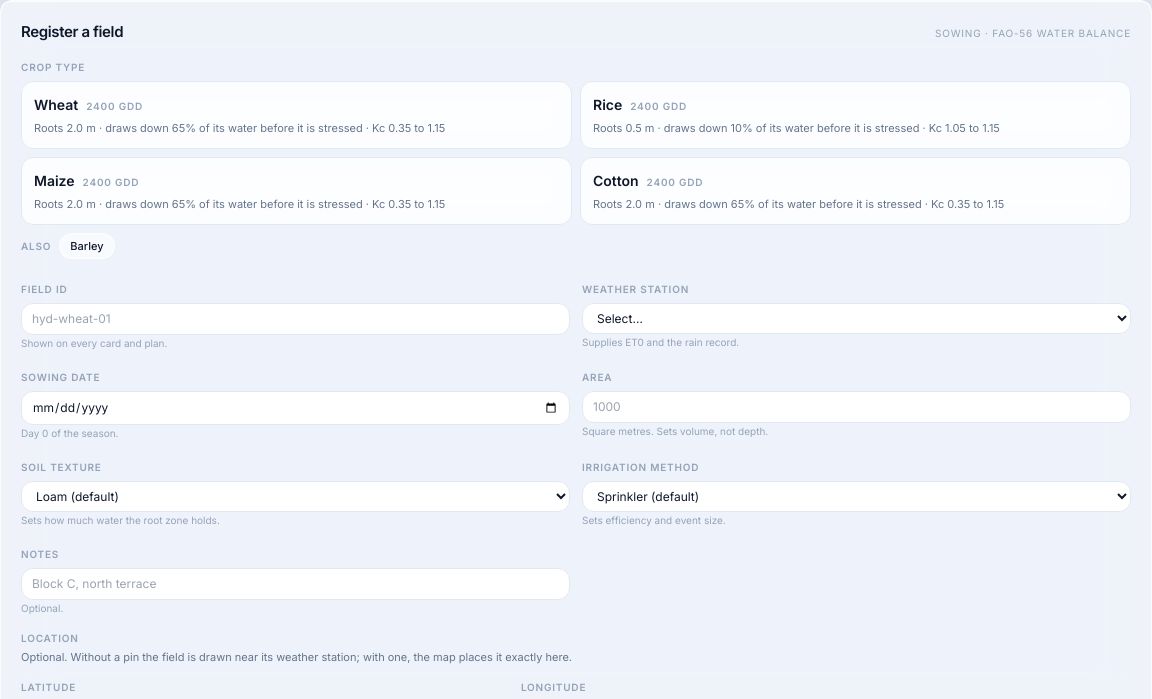
Test case: AddField › refuses a sowing date in the future
Click the button that starts with "Cotton". click: [616, 180]
box: [580,157,1131,225]
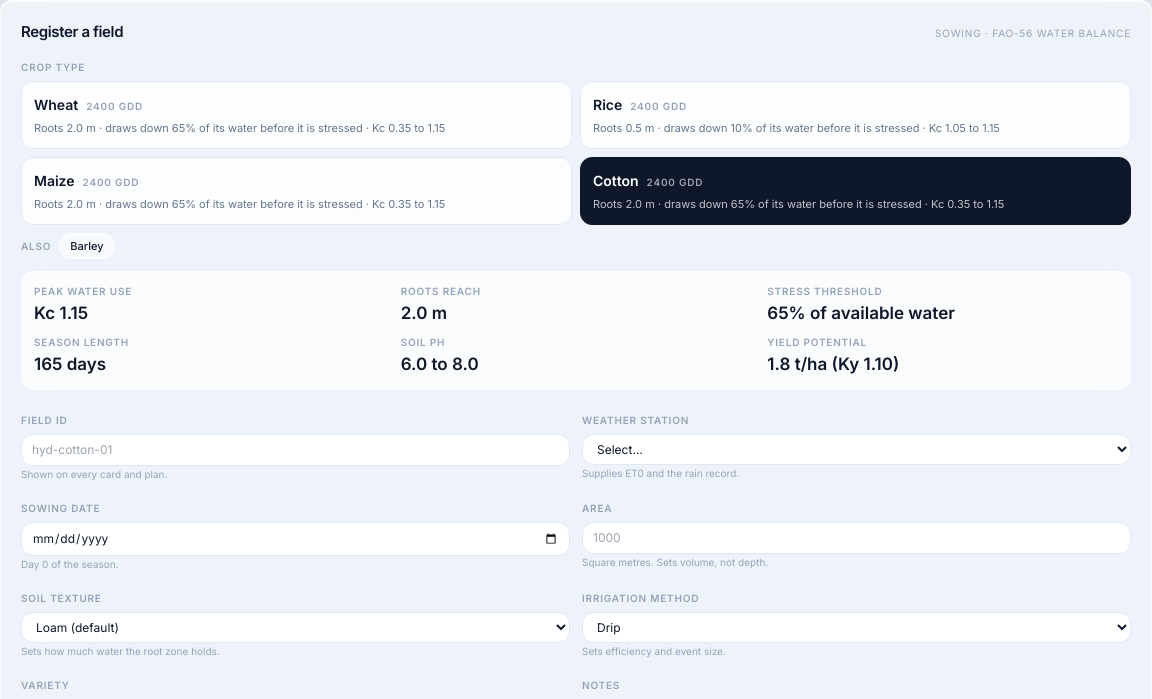
Type "PNQ-cotton-01" into the field labelled "Field id Shown on every card and plan.". click: [296, 450]
box: [21,434,570,466]
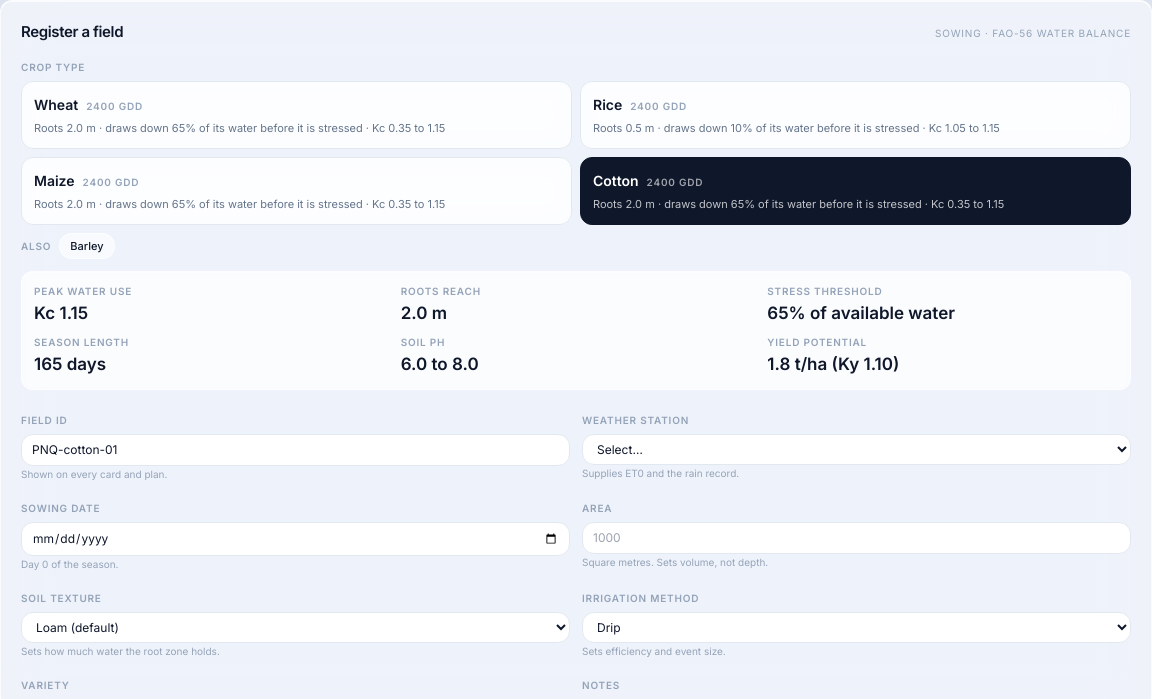
Select "PNQ" in the dropdown labelled "Weather station Supplies ET0 and the rain record.". click: [856, 450]
box: [582,434,1131,465]
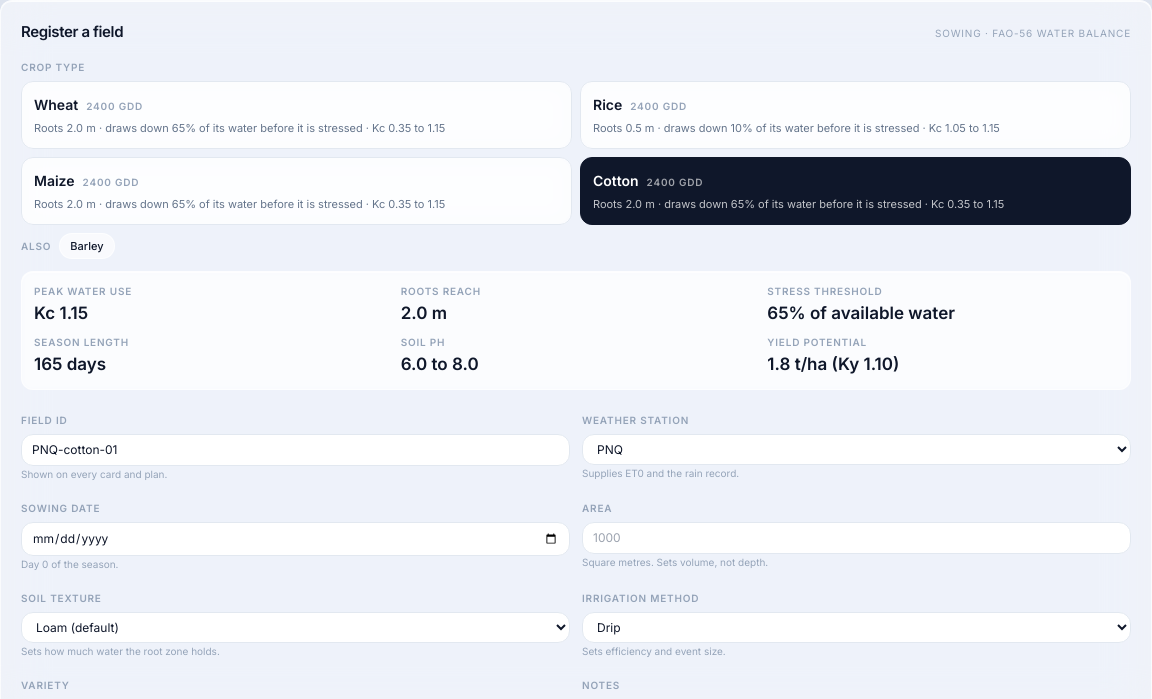
Type "2099-01-01" into the date field labelled "Sowing date Day 0 of the season.". click: [296, 539]
box: [21,522,570,556]
(page scrolled)
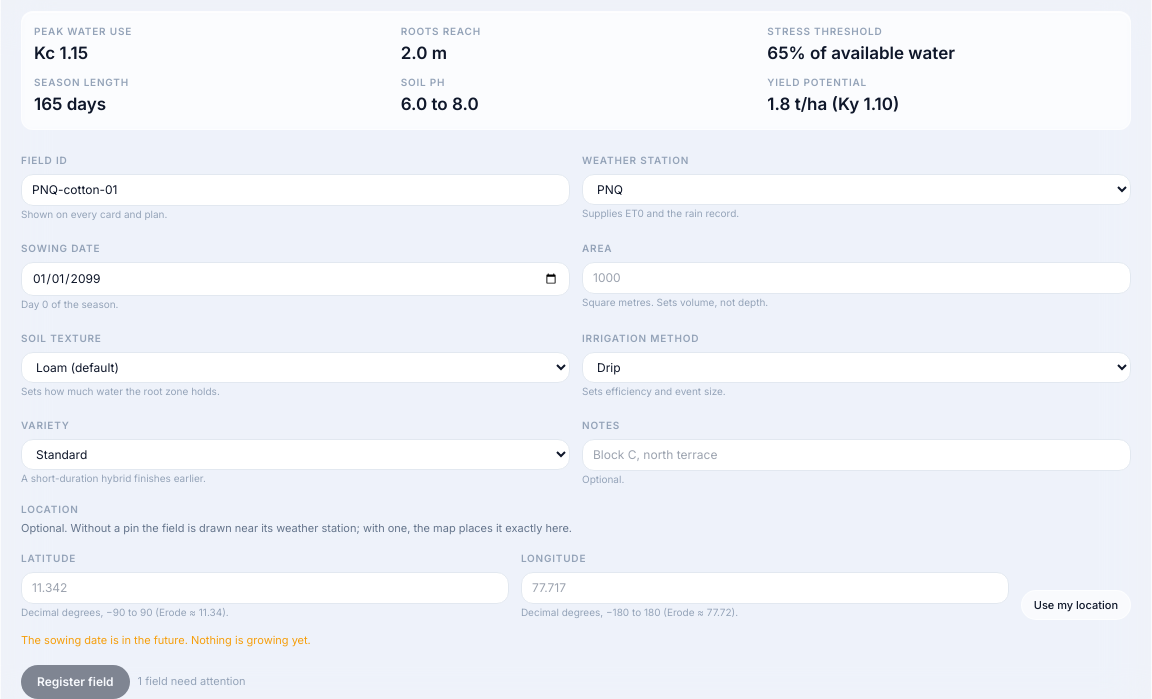
Now the list item "The sowing date is in the future. Nothing is growing yet." is shown, box [21,633,311,647]
